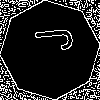J: (25, 25, 74, 55)
